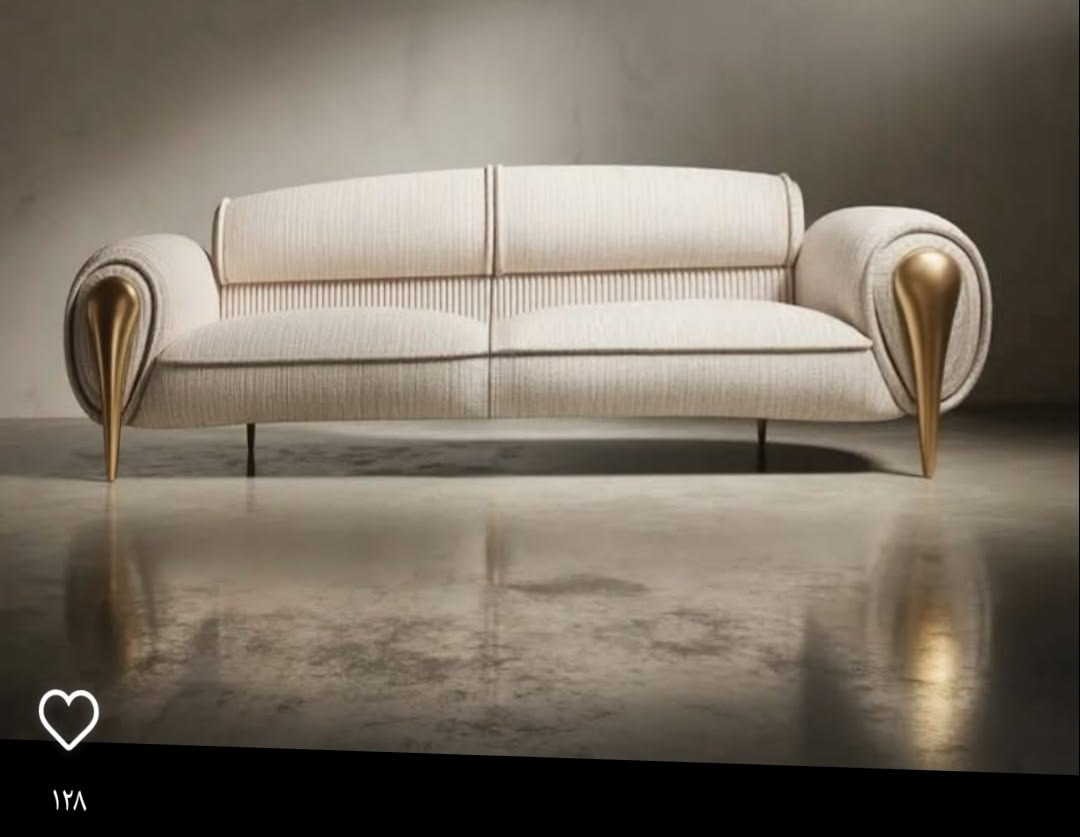3seatersofa: (64, 166, 991, 482)
backrest: (212, 165, 803, 322)
leftarmrest: (795, 206, 991, 473)
leg: (892, 248, 960, 477), (87, 276, 140, 481), (757, 419, 767, 469), (246, 424, 255, 476)
rightarmrest: (65, 234, 218, 428)
seat: (126, 298, 910, 427)
